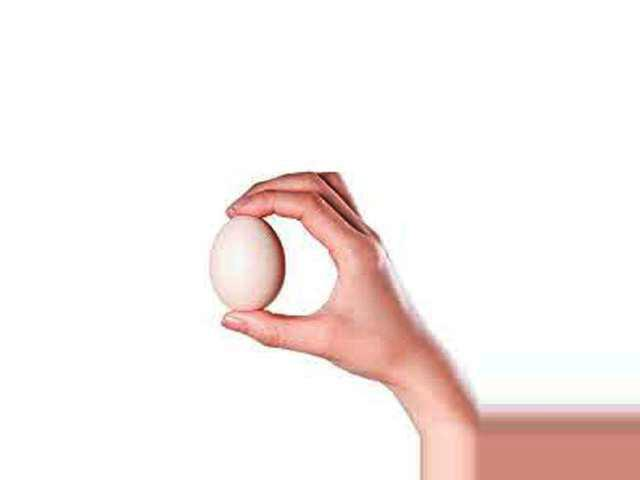egg: (209, 214, 285, 312)
